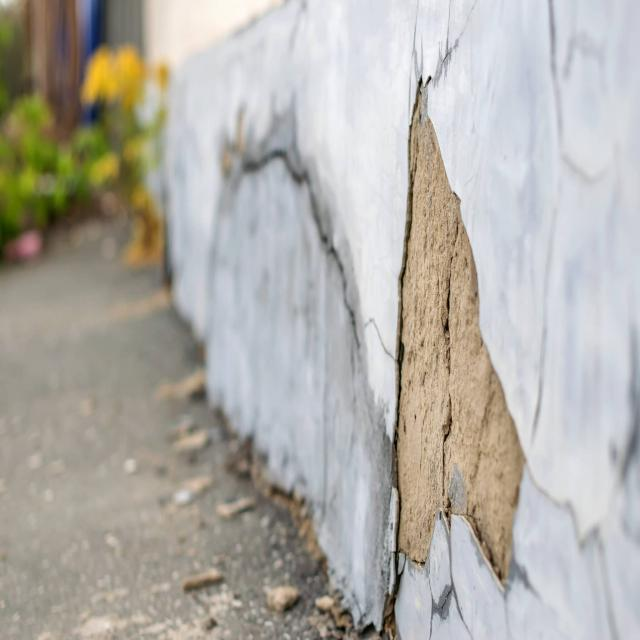Crack: (381, 0, 640, 640), (244, 143, 397, 365)
